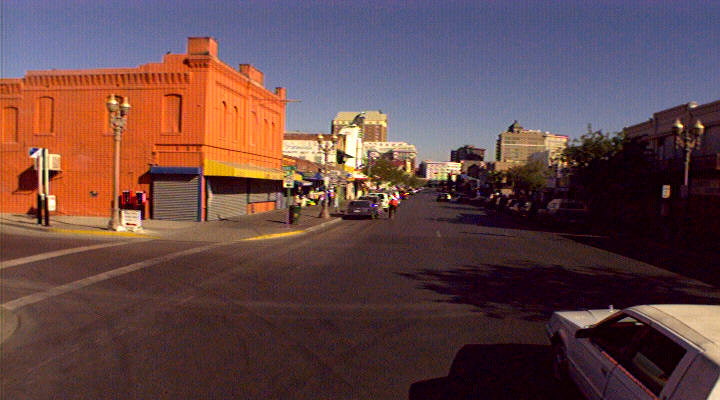Ramp: (134, 218, 263, 247)
